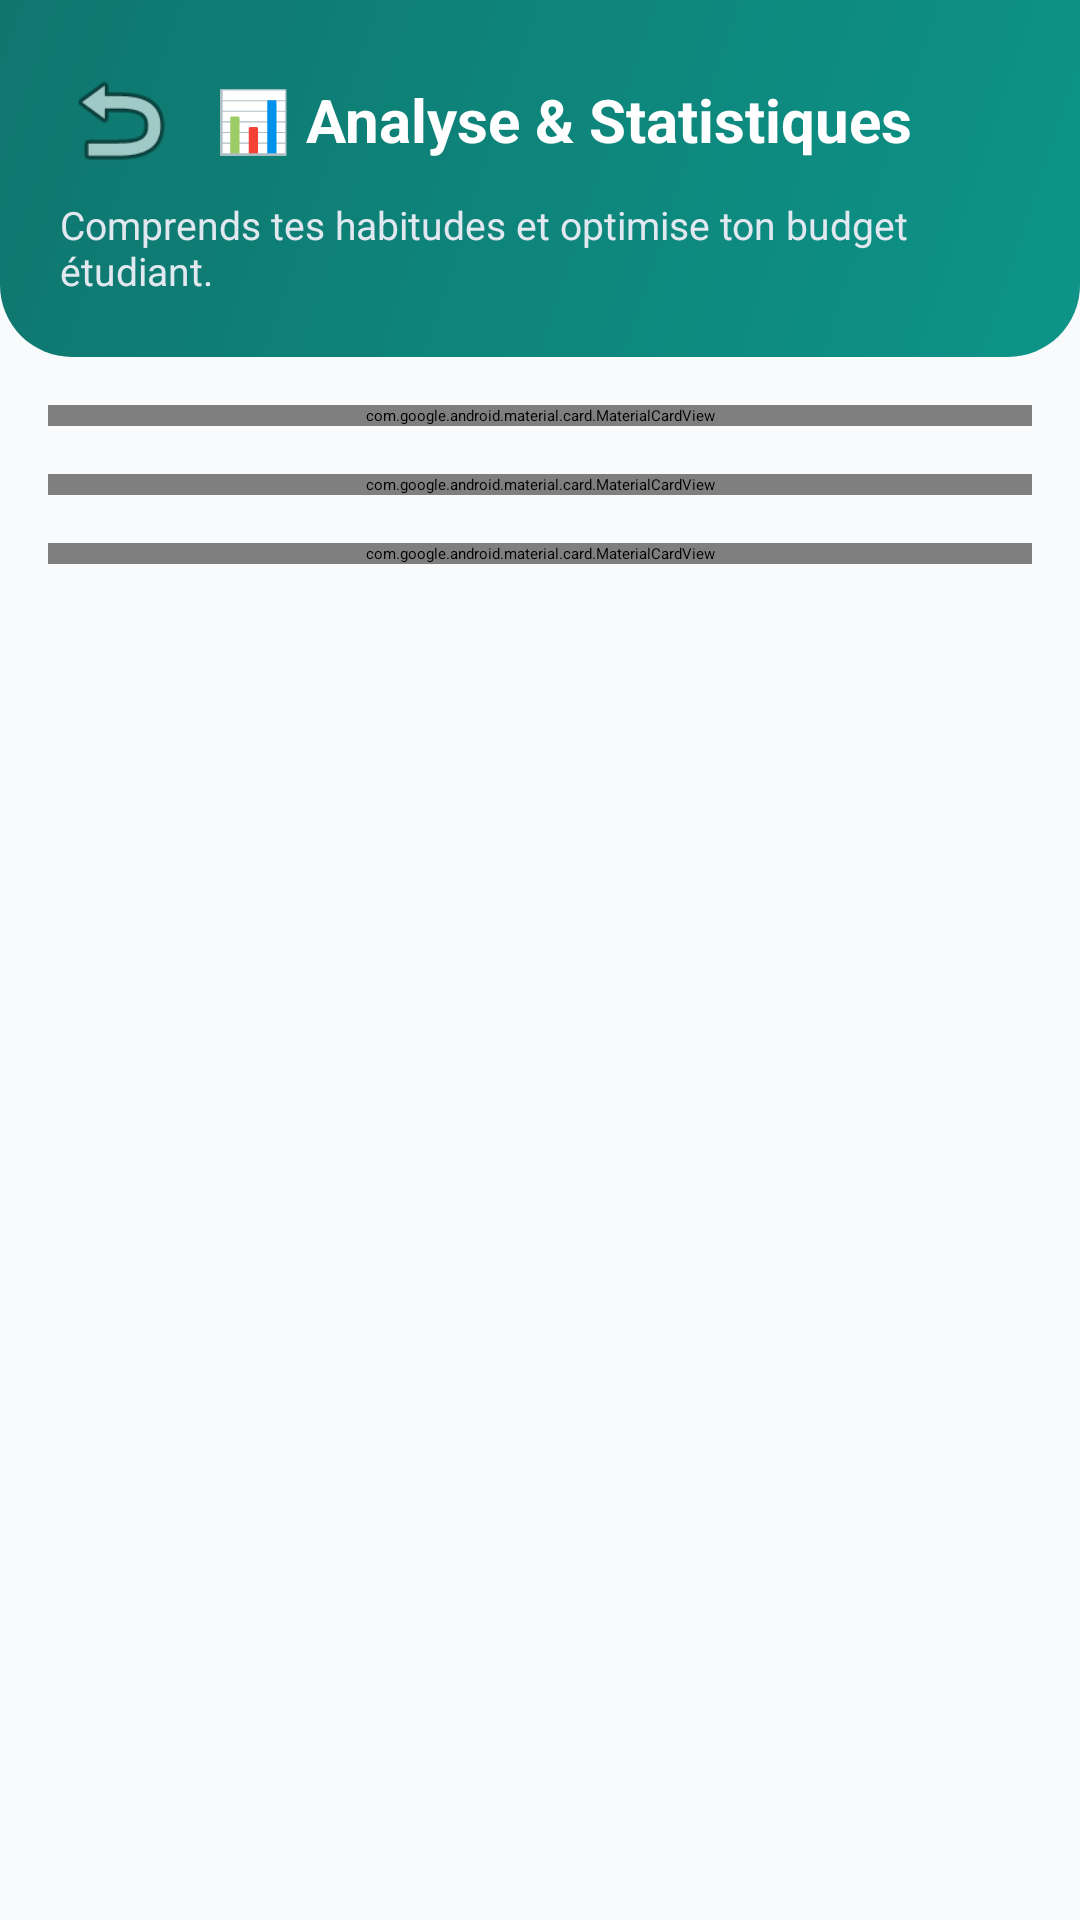

Named icons in this screenshot (1080×1920) and their bounding boxes, (x1, y1, x2, y2):
Retour: (79, 82, 164, 160)
